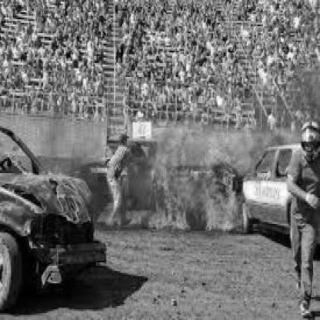Fire: (116, 108, 264, 246)
